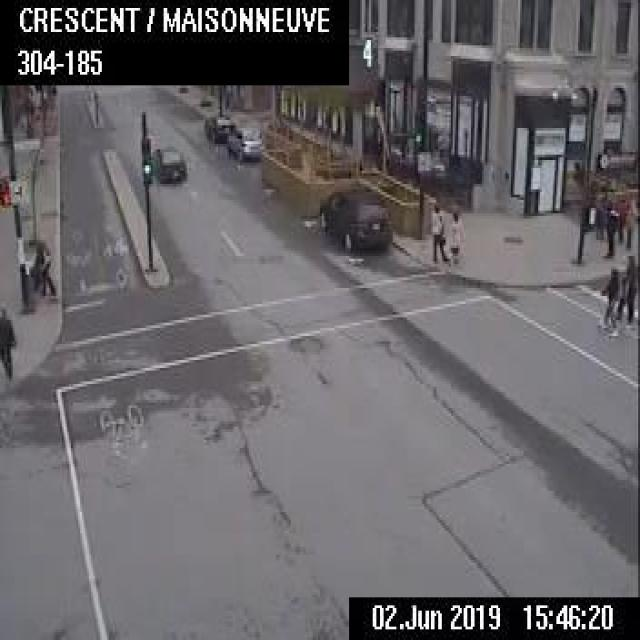pedestrian: (618, 253, 637, 325), (600, 266, 618, 334), (0, 301, 15, 379), (429, 200, 447, 261), (37, 245, 57, 298), (447, 210, 464, 270), (622, 194, 637, 250), (603, 197, 617, 255)
vehicle: (317, 188, 396, 254), (151, 144, 185, 182), (226, 125, 262, 158), (203, 112, 234, 141)
